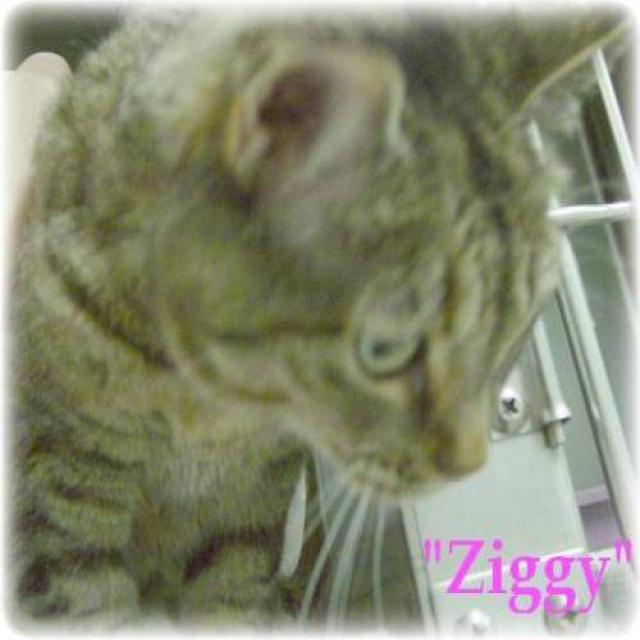cat: (5, 7, 634, 633)
